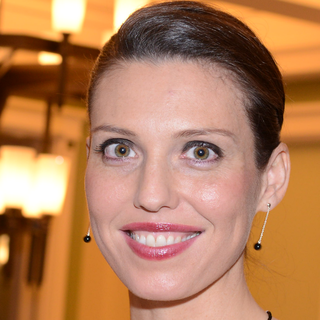eye: (95, 136, 141, 164), (176, 139, 225, 165)
